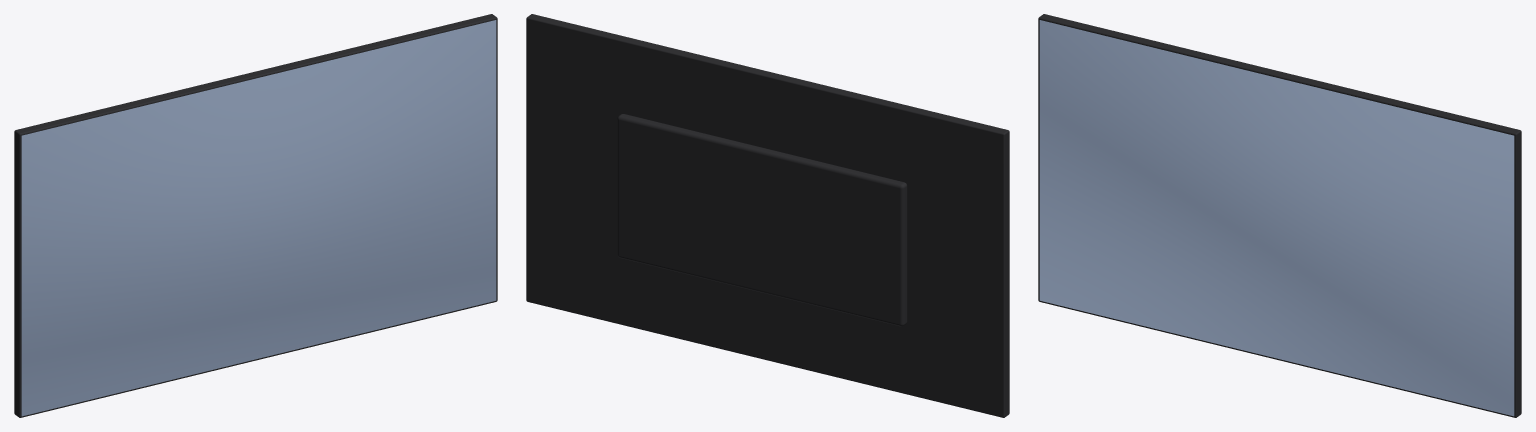
The picture shows the model from 3 angles, left to right: view 1: azimuth 30°, elevation 25°; view 2: azimuth 150°, elevation 25°; view 3: azimuth 330°, elevation 25°; orthographic projection.
Parts seen in each view (by area): view 1: Cube.001, Cube; view 2: Cube, Cube.002; view 3: Cube.001, Cube.
Boxes of the visible parts, x1,y1,x2,y2 form: Cube.001: (21,20,496,416); Cube: (14,14,497,417); Cube: (526,14,1009,417); Cube.002: (617,114,907,326); Cube.001: (1039,20,1514,416); Cube: (1038,14,1521,417).
Bounding box in the file's own units: 1.46 × 0.8294 × 0.0615.
